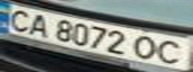0: (69, 20, 90, 47)
2: (106, 27, 130, 56)
7: (87, 24, 109, 51)
8: (51, 16, 75, 43)
A: (24, 11, 54, 38)
C: (154, 37, 190, 66), (0, 6, 36, 33)
O: (130, 33, 163, 61)
